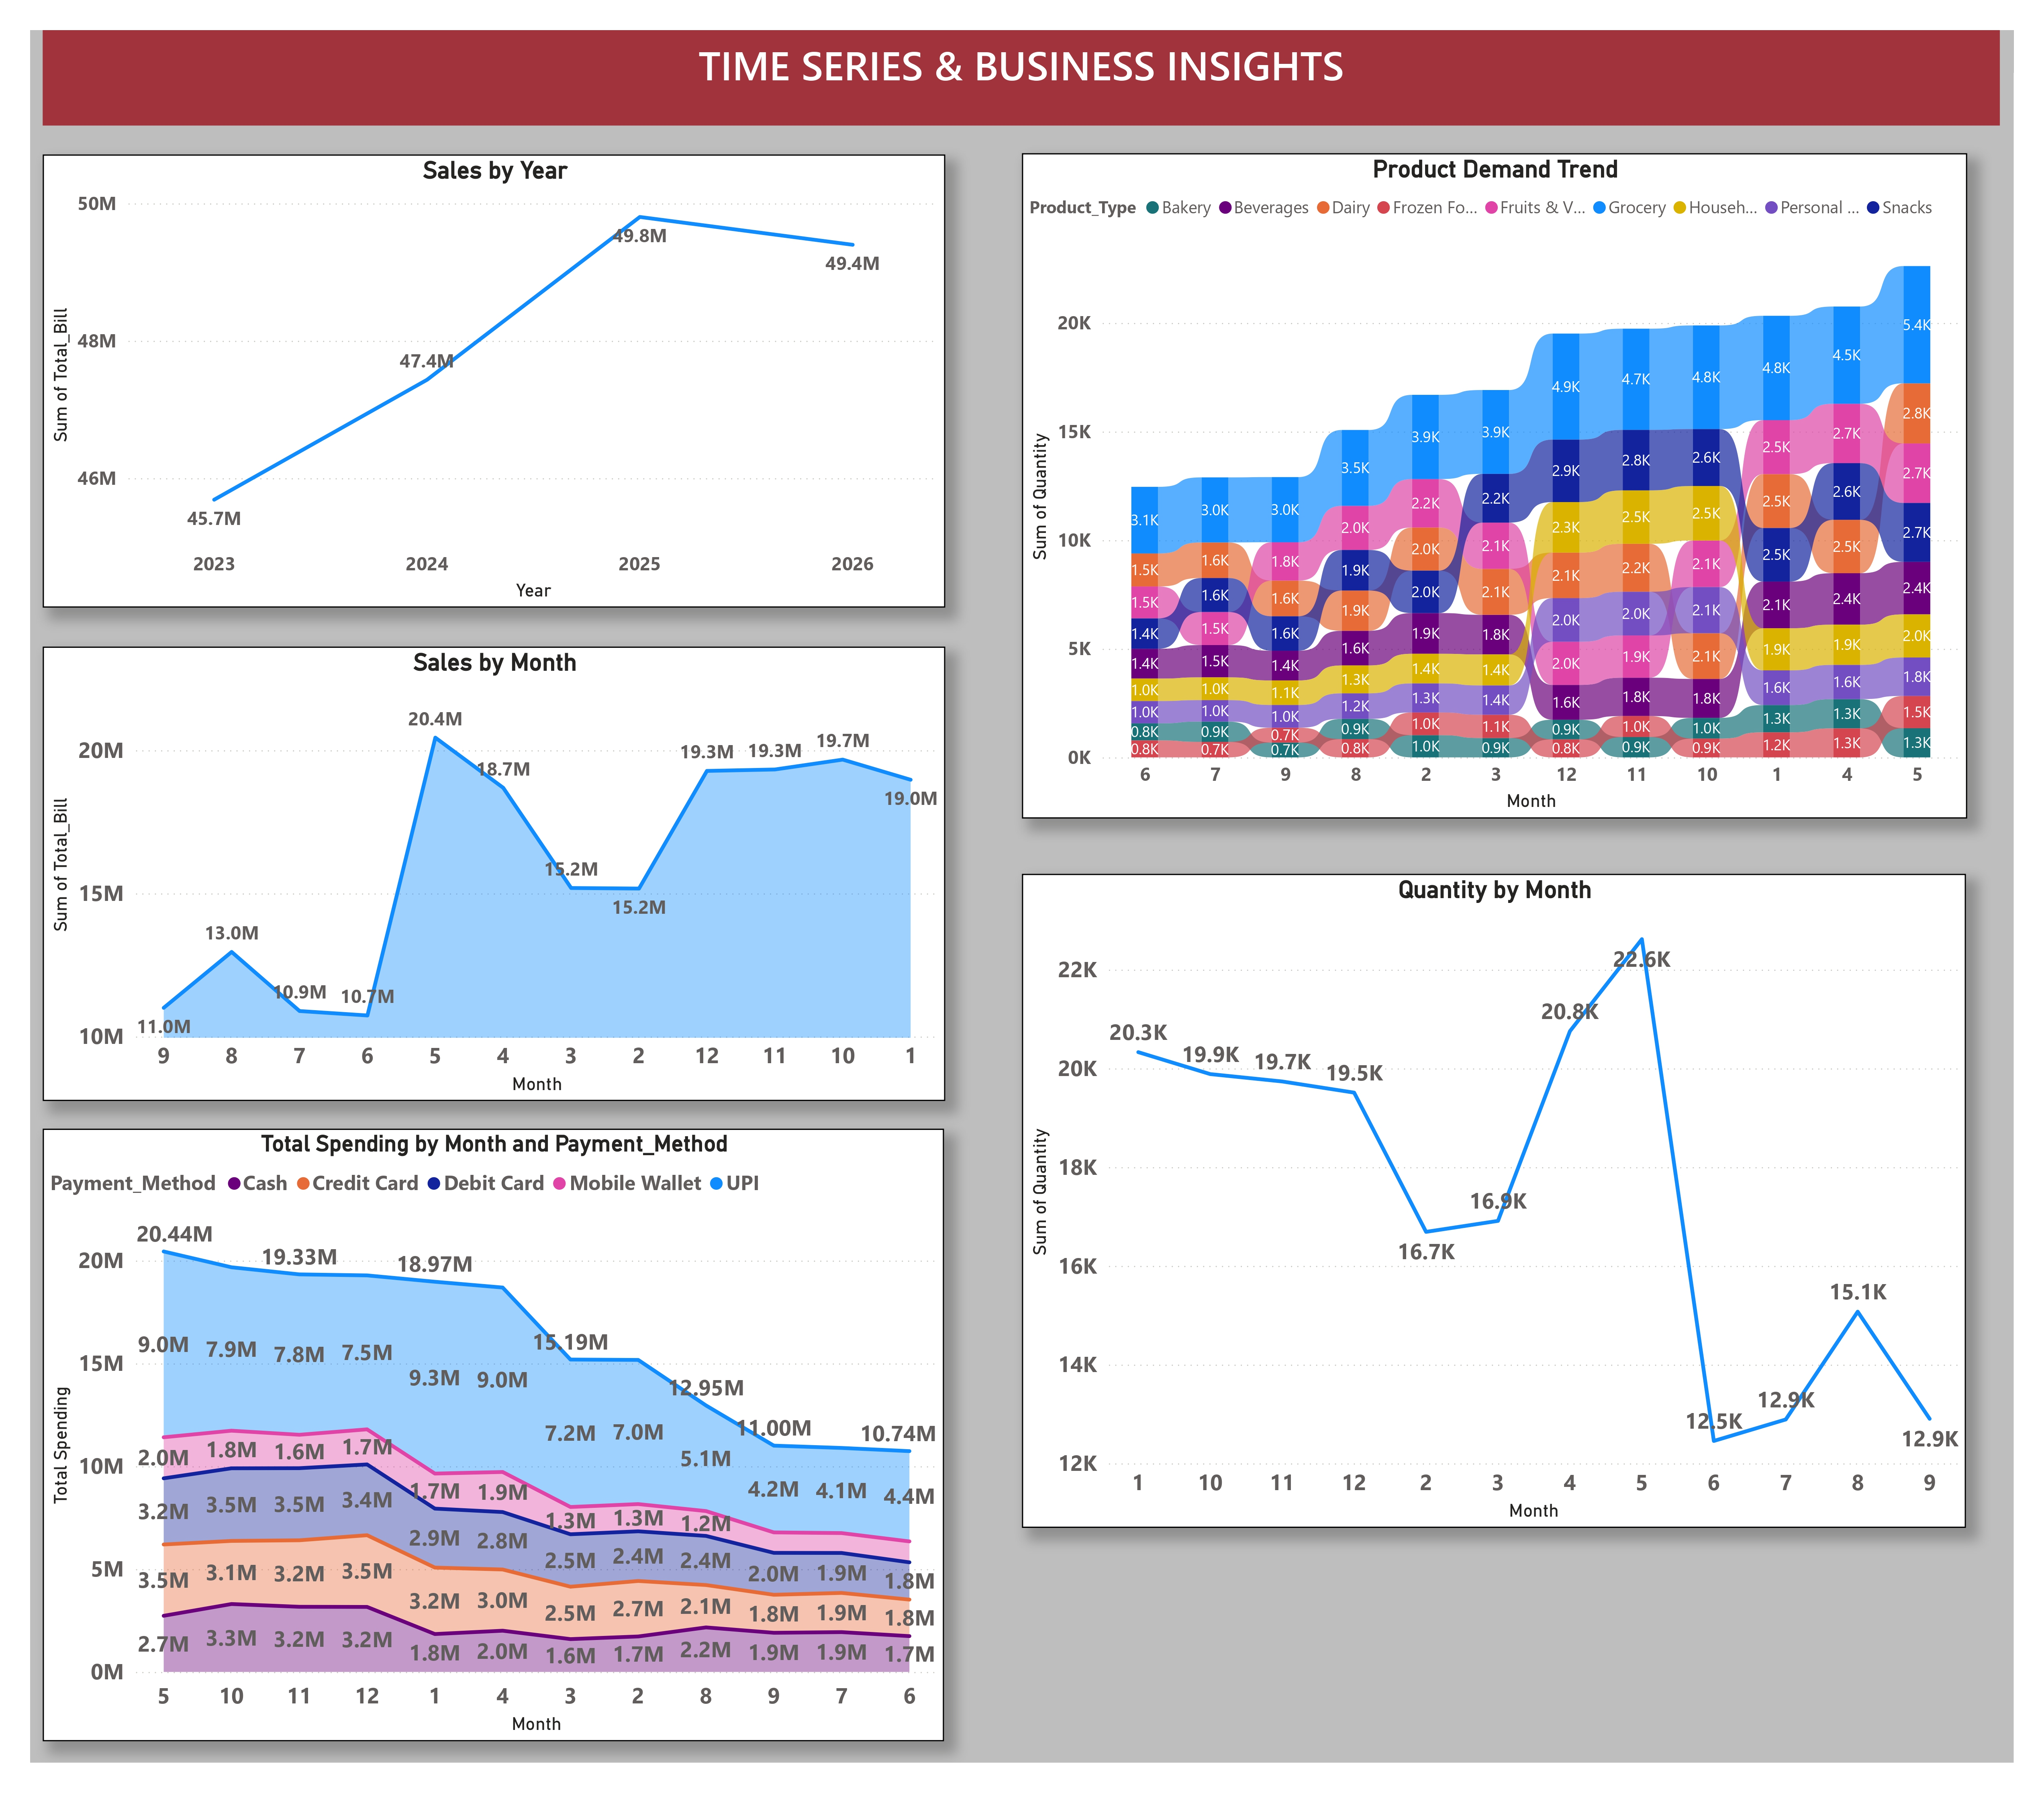

The dashboard page shown, as its layout file describes it:
{"tool":"powerbi","page":{"name":"TS&BI","canvas":[1580,1380],"ordinal":3},"visuals":[{"type":"textbox","box":[10,0,1558.6,75.7],"z":0},{"type":"lineChart","title":"Sales by Year","fields":{"Category":["supermarketdata.Year"],"Y":["Sum(supermarketdata.Total_Bill)"]},"box":[10,98.6,718.6,361.4],"z":1000},{"type":"areaChart","title":"Sales by Month","fields":{"Category":["supermarketdata.Month"],"Y":["Sum(supermarketdata.Total_Bill)"]},"box":[10,491.4,718.6,361.4],"z":2000},{"type":"ribbonChart","title":"Product Demand Trend","fields":{"Category":["supermarketdata.Month"],"Series":["supermarketdata.Product_Type"],"Y":["Sum(supermarketdata.Quantity)"]},"box":[790,98.3,753.3,530],"z":3000},{"type":"lineChart","title":"Quantity by Month","fields":{"Category":["supermarketdata.Month"],"Y":["Sum(supermarketdata.Quantity)"]},"box":[790,671.7,751.7,521.7],"z":4000},{"type":"stackedAreaChart","fields":{"Category":["supermarketdata.Month"],"Series":["supermarketdata.Payment_Method"],"Y":["supermarketdata.Total Spending"]},"box":[10,875,718.3,488.3],"z":5000}]}

Visuals, with their boxes in screenshot pixels (x1, y1, x2, y2):
textbox: x1=23 y1=21 x2=2012 y2=118
"Sales by Year" lineChart: x1=23 y1=147 x2=940 y2=608
"Sales by Month" areaChart: x1=23 y1=648 x2=940 y2=1109
"Product Demand Trend" ribbonChart: x1=1019 y1=147 x2=1980 y2=823
"Quantity by Month" lineChart: x1=1019 y1=878 x2=1978 y2=1544
stackedAreaChart - supermarketdata.Month x supermarketdata.Payment_Method: x1=23 y1=1137 x2=940 y2=1760
